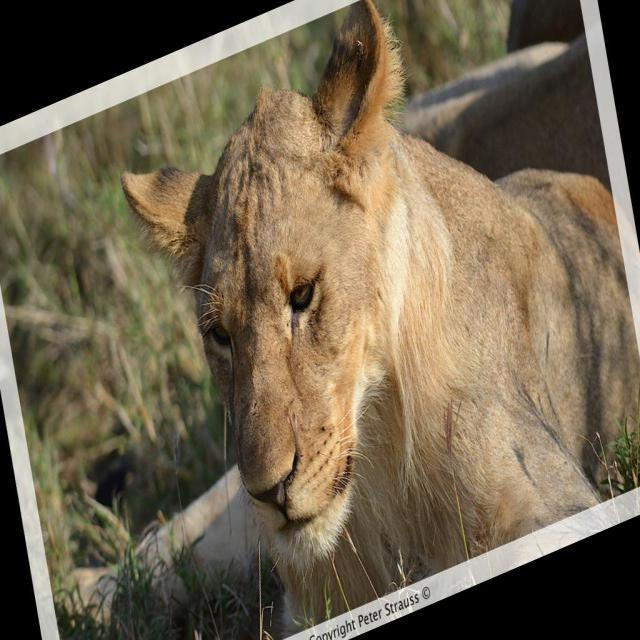Lion: (102, 0, 639, 639)
